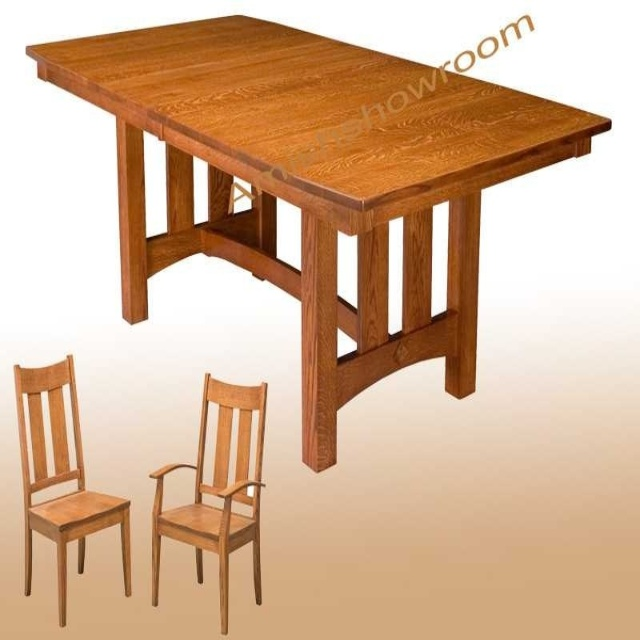obstacle: (27, 16, 610, 470)
